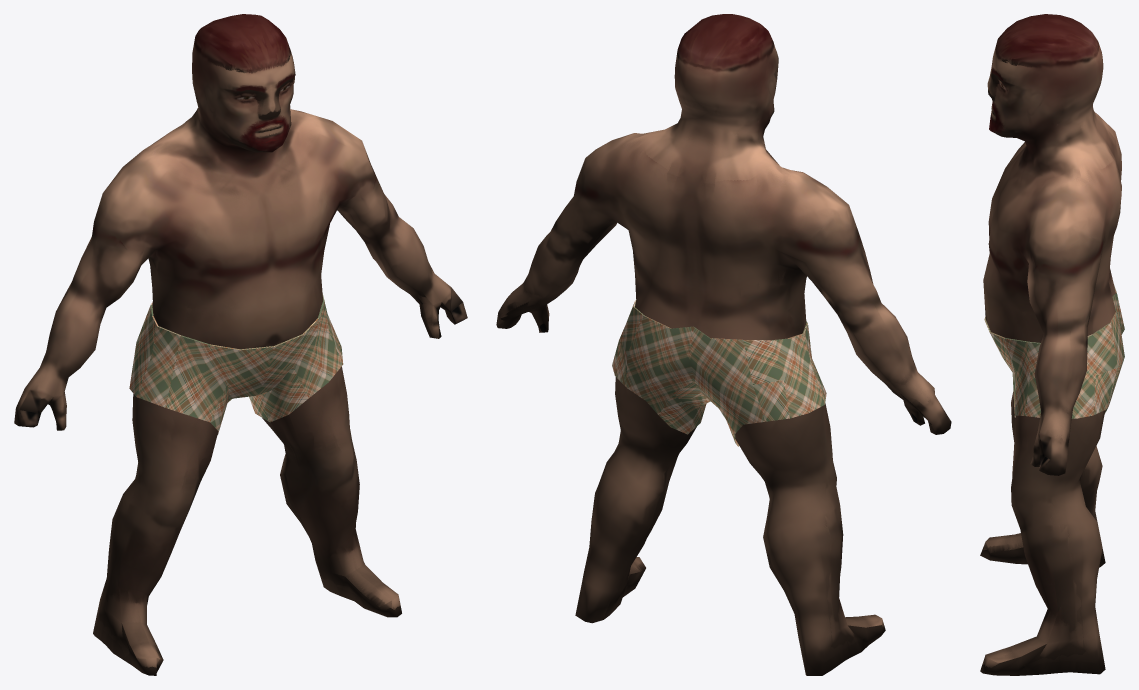
File: Dwarfism1.fbx
3 renders of one model, left to right at view 1: azimuth 30°, elevation 25°; view 2: azimuth 150°, elevation 25°; view 3: azimuth 270°, elevation 25°, orthographic.
Visible parts, largest first — view 1: Dwarfism; view 2: Dwarfism; view 3: Dwarfism.
Boxes of the visible parts, left/top/right/bottom form: Dwarfism: left=14, top=14, right=467, bottom=675; Dwarfism: left=496, top=14, right=951, bottom=675; Dwarfism: left=980, top=14, right=1124, bottom=675.
Size of the model in its own units: 116 by 151 by 32.97.
Materials: 2 (2 with a texture image).
